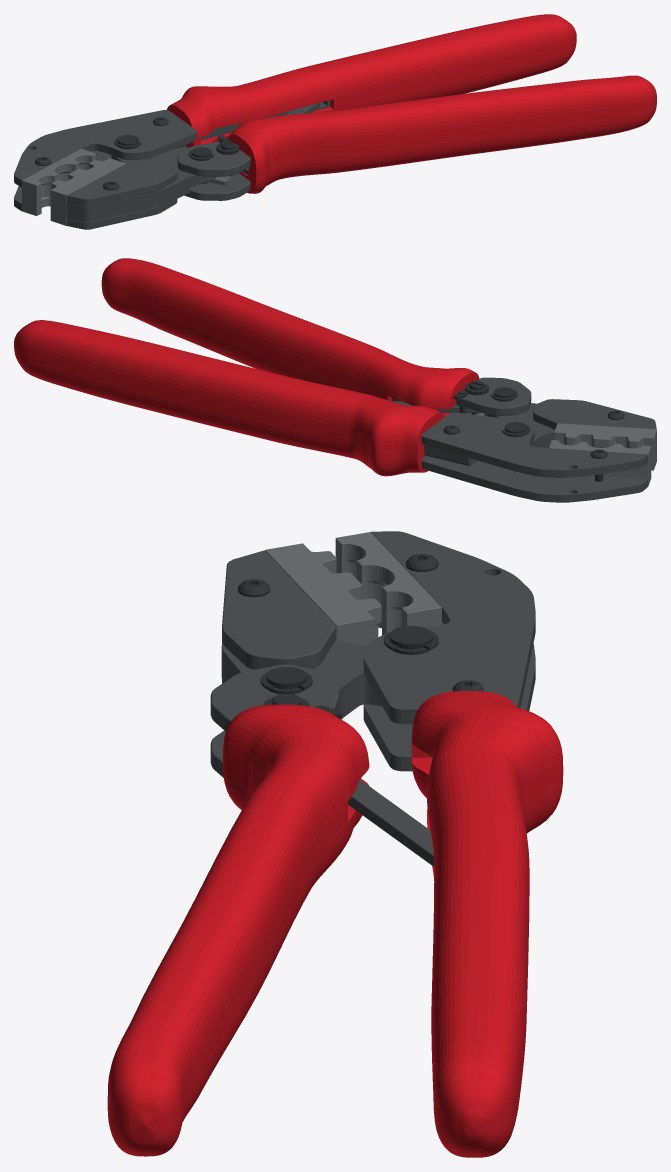
The picture shows the model from 3 angles, top to bottom: view 1: azimuth 30°, elevation 25°; view 2: azimuth 150°, elevation 25°; view 3: azimuth 270°, elevation 25°; orthographic projection. The views are drawn at different scales.
Visible parts, largest first — view 1: Lower red grip sleeve, Upper red grip sleeve, Upper head front plate, Moving jaw front cheek, Moving jaw pivot web, Fixed three-profile die, Opposed three-profile punch, Lower compound lever front, Lower compound lever rear, Moving jaw rear cheek, Upper head rear plate, Upper continuous handle tang; view 2: Upper red grip sleeve, Lower red grip sleeve, Upper head front plate, Upper head rear plate, Moving jaw front cheek, Opposed three-profile punch, Lower compound lever front, Fixed three-profile die, Moving jaw pivot web, Upper continuous handle tang; view 3: Lower red grip sleeve, Upper red grip sleeve, Upper head front plate, Moving jaw front cheek, Fixed three-profile die, Opposed three-profile punch, Lower compound lever front, Moving jaw pivot web, Exposed toggle link, Upper head rear plate, Main jaw pivot spindle, Compound handle pivot spindle.
Boxes of the visible parts, <box> form: Lower red grip sleeve: <box>228,75,656,193</box>; Upper red grip sleeve: <box>167,14,576,147</box>; Upper head front plate: <box>14,110,196,187</box>; Moving jaw front cheek: <box>67,160,177,206</box>; Moving jaw pivot web: <box>66,155,216,222</box>; Fixed three-profile die: <box>22,148,95,215</box>; Opposed three-profile punch: <box>50,158,125,225</box>; Lower compound lever front: <box>177,141,250,176</box>; Lower compound lever rear: <box>184,173,250,200</box>; Moving jaw rear cheek: <box>67,199,177,229</box>; Upper head rear plate: <box>14,146,187,210</box>; Upper continuous handle tang: <box>176,100,330,148</box>; Upper red grip sleeve: <box>14,320,445,476</box>; Lower red grip sleeve: <box>101,258,479,416</box>; Upper head front plate: <box>421,412,648,477</box>; Upper head rear plate: <box>421,456,648,502</box>; Moving jaw front cheek: <box>533,399,656,429</box>; Opposed three-profile punch: <box>554,423,656,470</box>; Lower compound lever front: <box>456,377,531,415</box>; Fixed three-profile die: <box>549,440,651,485</box>; Moving jaw pivot web: <box>484,403,554,448</box>; Upper continuous handle tang: <box>424,445,477,466</box>; Lower red grip sleeve: <box>107,704,369,1156</box>; Upper red grip sleeve: <box>411,691,563,1157</box>; Upper head front plate: <box>363,531,535,724</box>; Moving jaw front cheek: <box>222,550,336,669</box>; Fixed three-profile die: <box>335,532,441,635</box>; Opposed three-profile punch: <box>265,543,381,646</box>; Lower compound lever front: <box>210,664,339,731</box>; Moving jaw pivot web: <box>221,640,381,719</box>; Exposed toggle link: <box>348,779,434,866</box>; Upper head rear plate: <box>363,622,535,771</box>; Main jaw pivot spindle: <box>389,626,432,654</box>; Compound handle pivot spindle: <box>266,666,306,694</box>.
Bounding box in the file's own units: 0.2469 × 0.024 × 0.084.
